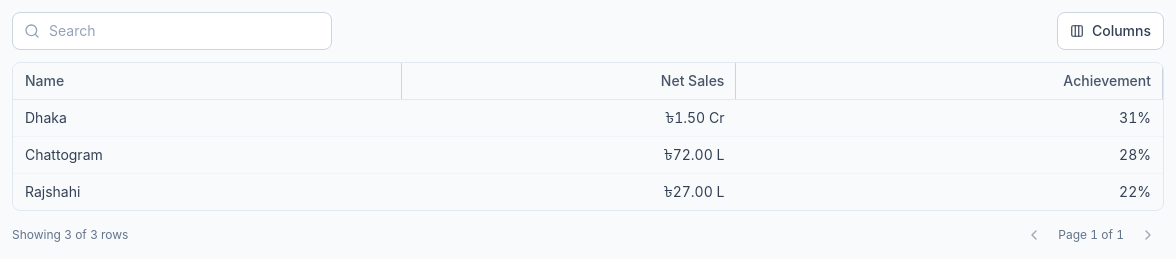
Test case: DataTable › filters rows as you search
Type "Rajshahi" into the search field.
click(172, 31); type("Rajshahi")  # box [12,12,332,50]
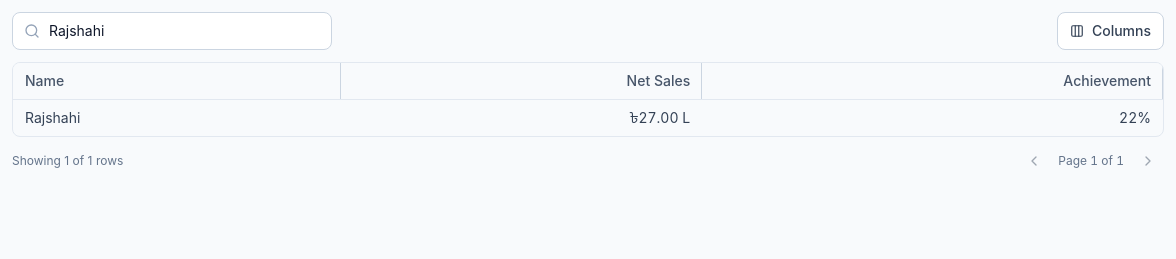
Expected: the text "Rajshahi" is shown, [13,100,341,136]
Now the text "Dhaka" is gone
